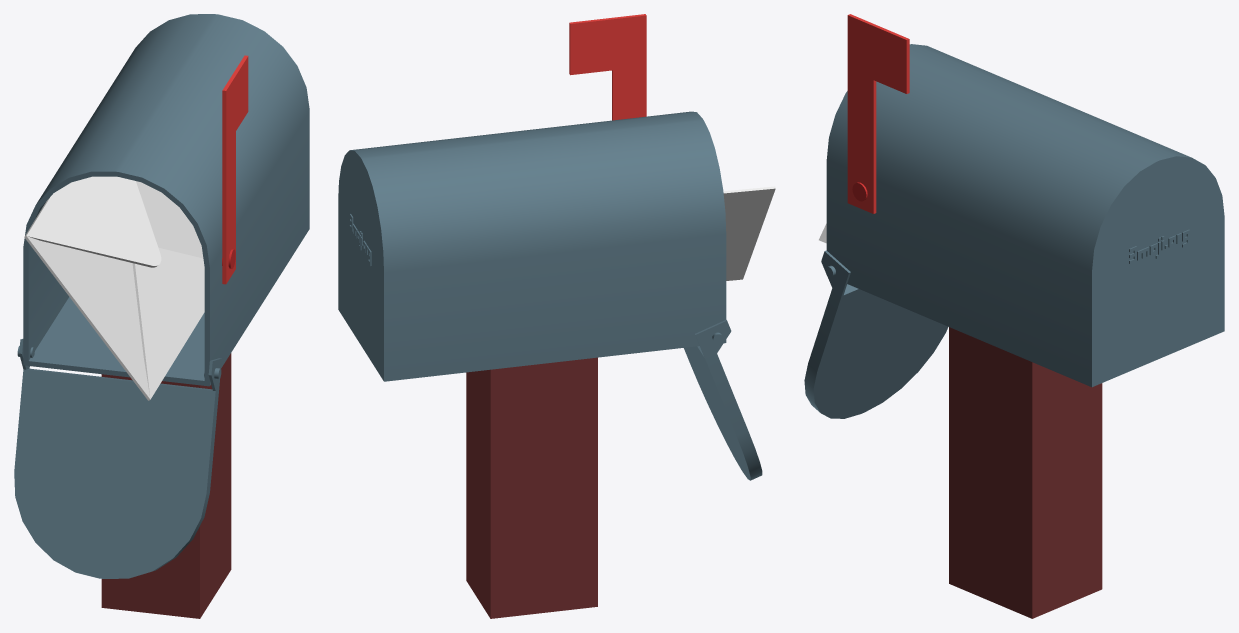
File: open_mailbox_with_raised_flag.fbx
3 views of the same model, side by side, from view 1: azimuth 30°, elevation 25°; view 2: azimuth 150°, elevation 25°; view 3: azimuth 270°, elevation 25° (orthographic). The views are drawn at different scales.
Visible parts, largest first — view 1: Cube.972; view 2: Cube.972; view 3: Cube.972.
Part boxes in pixels (bbox=[...]): Cube.972: bbox=[14, 14, 309, 618]; Cube.972: bbox=[338, 14, 775, 618]; Cube.972: bbox=[804, 14, 1224, 618].
Size of the model in its own units: 154 by 221 by 151.
Materials: 1 (1 with a texture image).
